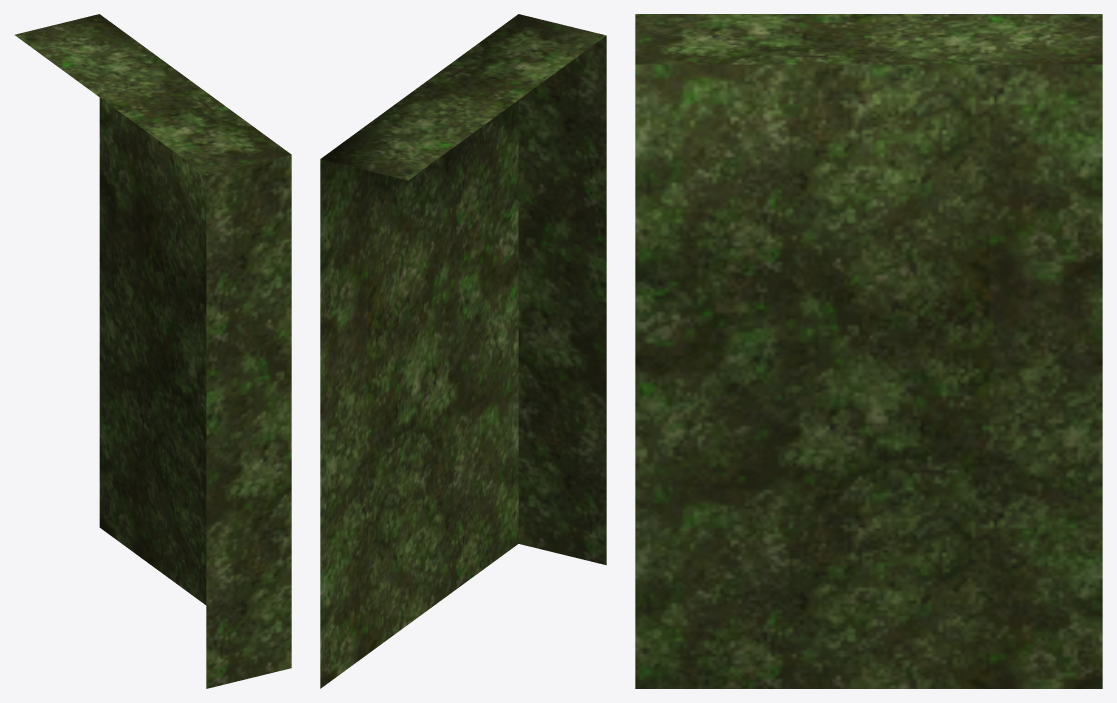
Rendered from OVERHILL_A_01_OBJECT91.fbx.
3 views of the same model, side by side, from view 1: azimuth 30°, elevation 25°; view 2: azimuth 150°, elevation 25°; view 3: azimuth 270°, elevation 25° (orthographic). The views are drawn at different scales.
Visible parts, largest first — view 1: OVERHILL_A_01_OBJECT91; view 2: OVERHILL_A_01_OBJECT91; view 3: OVERHILL_A_01_OBJECT91.
Boxes of the visible parts, <box> form: OVERHILL_A_01_OBJECT91: <box>14,14,291,688</box>; OVERHILL_A_01_OBJECT91: <box>320,14,606,688</box>; OVERHILL_A_01_OBJECT91: <box>635,14,1102,688</box>.
Bounding box in the file's own units: 8371 × 48105 × 32637.
Materials: 1 (1 with a texture image).
